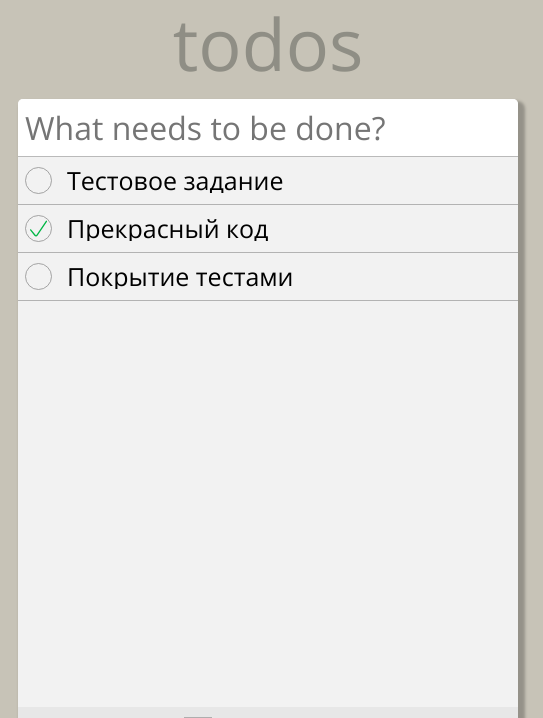
[TodoList] › Добавление нового Todo
This screenshot has width=543, height=718.
Type "test" into the field with test id "input" at x=268, y=128, box x1=18 y1=99 x2=518 y2=157
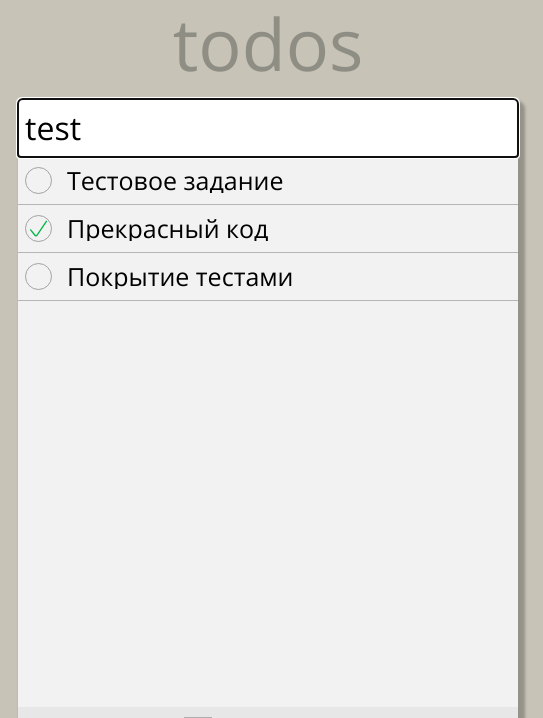
Submit the form with test id "form", box x1=18 y1=99 x2=518 y2=157
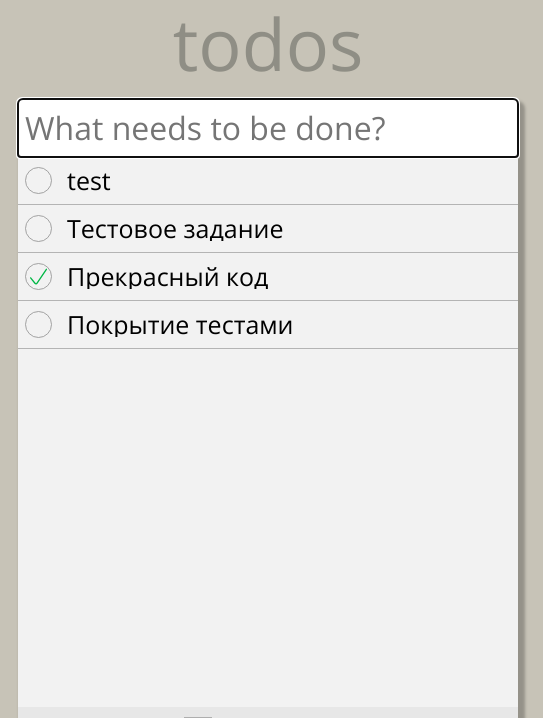
Type "test2" into the field with test id "input" at x=268, y=128, box x1=18 y1=99 x2=518 y2=157
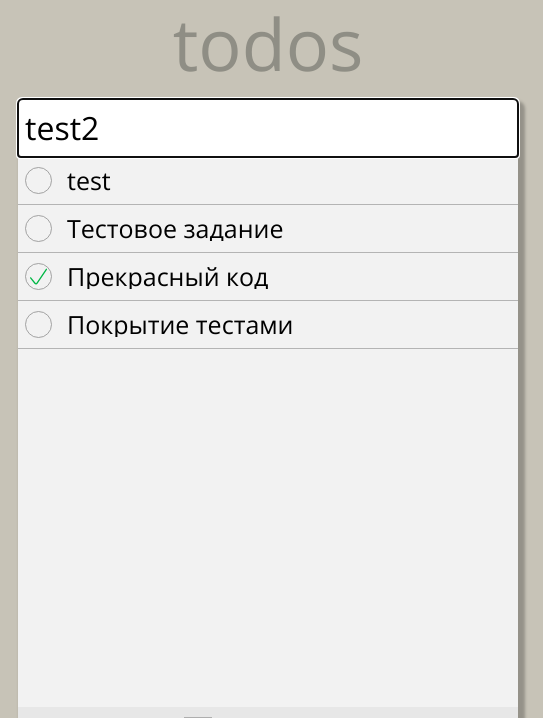
Submit the form with test id "form", box x1=18 y1=99 x2=518 y2=157
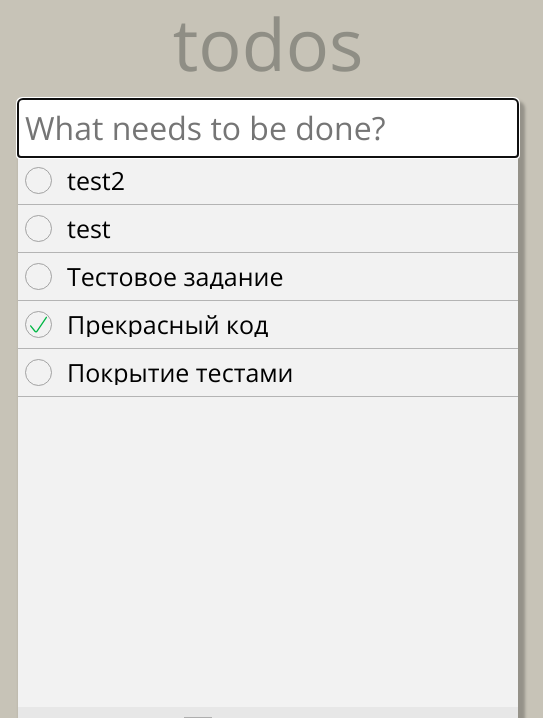
Expected: the number of list items is 5, x1=18 y1=157 x2=518 y2=205; x1=18 y1=205 x2=518 y2=253; x1=18 y1=253 x2=518 y2=301; x1=18 y1=301 x2=518 y2=349; x1=18 y1=349 x2=518 y2=397
